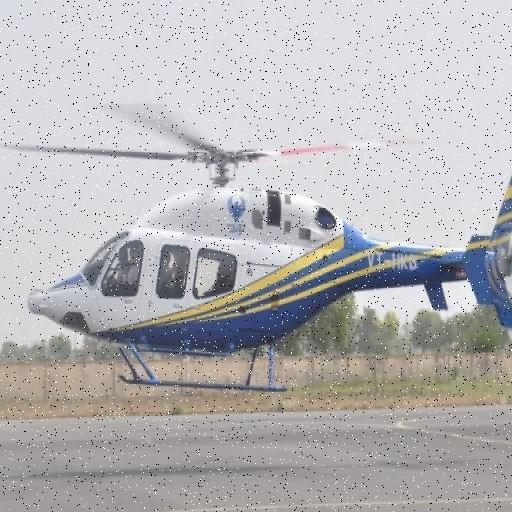helicopter: (3, 91, 512, 407)
